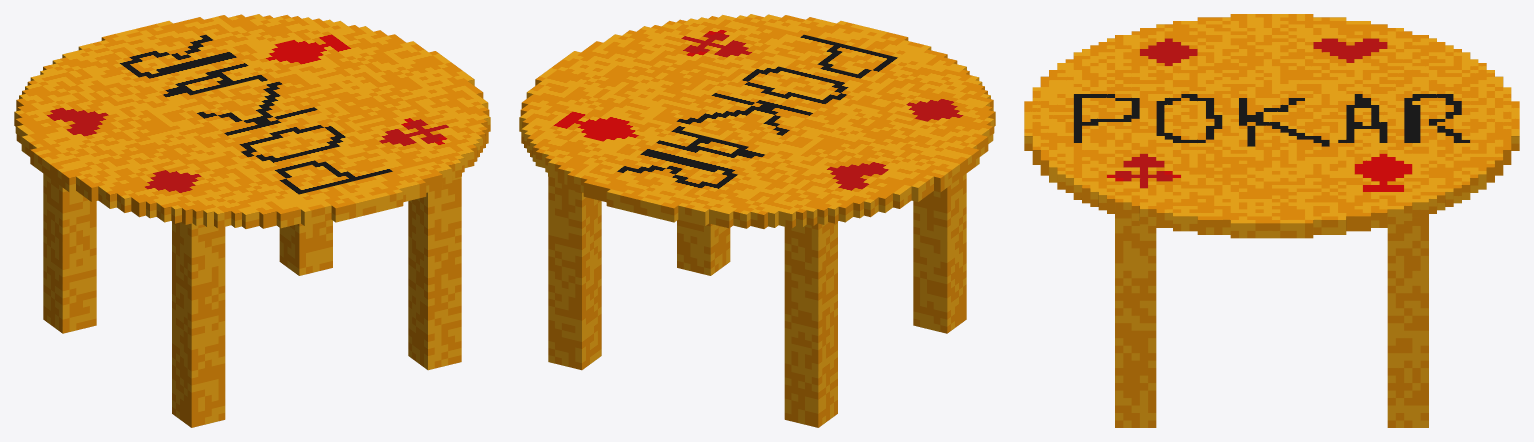
Rendered from Escenario 3 chocorramosurvivor-2.obj.
3 renders of one model, left to right at view 1: azimuth 30°, elevation 25°; view 2: azimuth 150°, elevation 25°; view 3: azimuth 270°, elevation 25°, orthographic. The views are drawn at different scales.
Parts seen in each view (by area): view 1: Escenario_3_chocorramosurvivor-2_Escenario_3_chocorramosurvivor-; view 2: Escenario_3_chocorramosurvivor-2_Escenario_3_chocorramosurvivor-; view 3: Escenario_3_chocorramosurvivor-2_Escenario_3_chocorramosurvivor-.
Boxes of the visible parts, x1,y1,x2,y2 form: Escenario_3_chocorramosurvivor-2_Escenario_3_chocorramosurvivor-: (14,14,490,427); Escenario_3_chocorramosurvivor-2_Escenario_3_chocorramosurvivor-: (519,14,995,427); Escenario_3_chocorramosurvivor-2_Escenario_3_chocorramosurvivor-: (1024,14,1519,427).
Size of the model in its own units: 6 by 3.2 by 6.
Materials: 1 (1 with a texture image).
